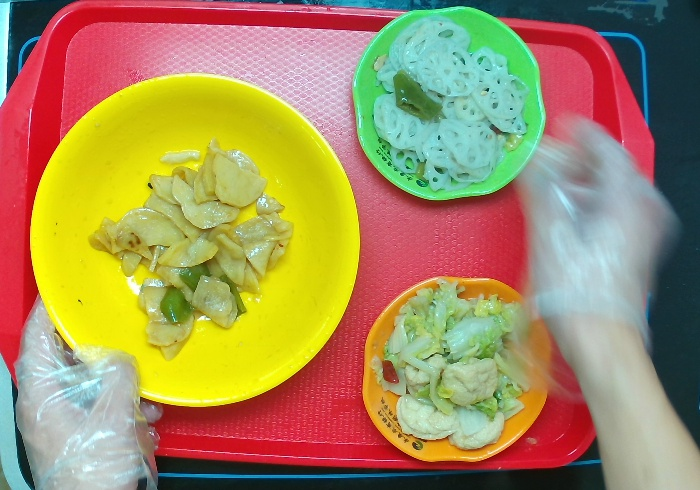YKMZ-Huang_Se_Tang_Wan: (24, 71, 363, 412)
YKMZ-Ju_Se_Ao_Bian_Wan: (361, 272, 554, 460)
YKMZ-Lv_Se_Ao_Bian_Wan: (352, 7, 545, 205)
